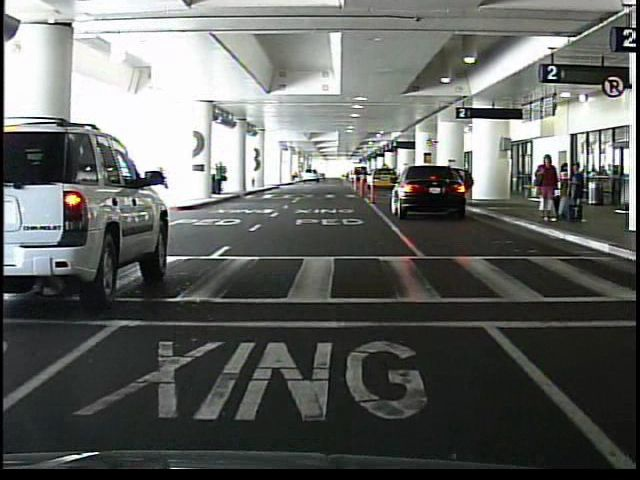person: (530, 153, 560, 223), (567, 163, 587, 224), (213, 162, 226, 198), (558, 163, 569, 200), (223, 164, 224, 196)
